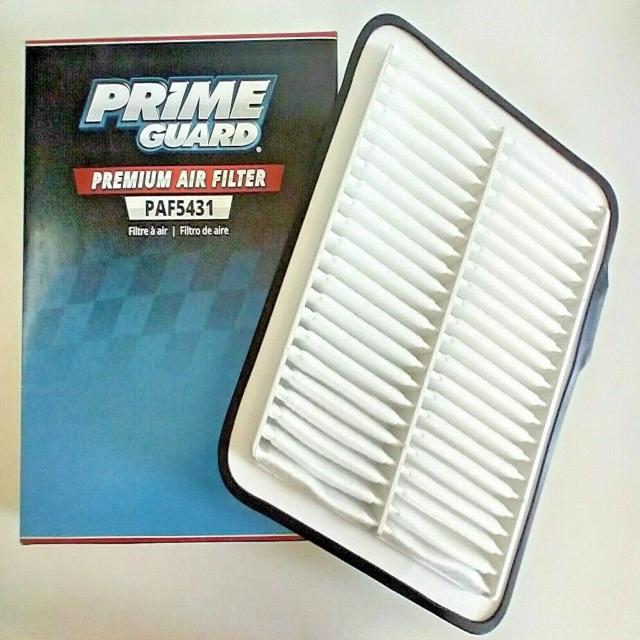air_filter: (218, 13, 624, 639)
